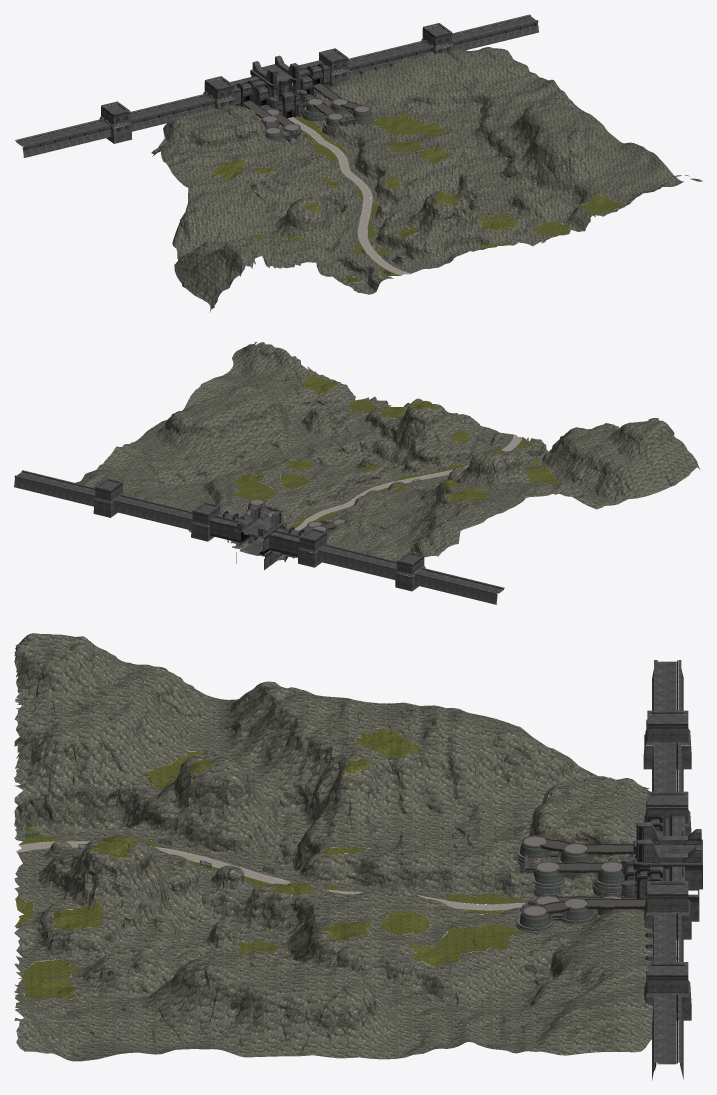
File: Tangram.glb
The picture shows the model from 3 angles, top to bottom: view 1: azimuth 30°, elevation 25°; view 2: azimuth 150°, elevation 25°; view 3: azimuth 270°, elevation 25°; orthographic projection. The views are drawn at different scales.
Visible parts, largest first — view 1: Group59166, t0_s21_s21_polySurface195, t0_yz5_polySurface66045, s21_polySurface196, g1_g1_road, polySurface121544, t0_s21_s21_bridge; view 2: Group59166, t0_s21_s21_polySurface195, s21_polySurface196, polySurface121544, g1_g1_road, t0_yz5_polySurface66045; view 3: Group59166, t0_s21_s21_polySurface195, t0_yz5_polySurface66045, polySurface121544, t0_s21_s21_bridge, g1_g1_road, s21_polySurface196.
Boxes of the visible parts, x1,y1,x2,y2 form: Group59166: [151, 47, 702, 312]; t0_s21_s21_polySurface195: [15, 14, 538, 157]; t0_yz5_polySurface66045: [261, 96, 373, 143]; s21_polySurface196: [230, 60, 330, 107]; g1_g1_road: [288, 117, 410, 275]; polySurface121544: [250, 55, 307, 117]; t0_s21_s21_bridge: [243, 83, 359, 127]; Group59166: [75, 342, 700, 562]; t0_s21_s21_polySurface195: [14, 470, 504, 604]; s21_polySurface196: [209, 510, 304, 558]; polySurface121544: [235, 505, 286, 569]; g1_g1_road: [259, 434, 522, 556]; t0_yz5_polySurface66045: [245, 498, 346, 557]; Group59166: [14, 633, 678, 1061]; t0_s21_s21_polySurface195: [519, 660, 691, 1080]; t0_yz5_polySurface66045: [516, 835, 628, 933]; polySurface121544: [621, 822, 702, 921]; t0_s21_s21_bridge: [541, 839, 646, 913]; g1_g1_road: [16, 841, 524, 910]; s21_polySurface196: [634, 815, 684, 915].
Bounding box in the file's own units: 1398 × 176 × 987.
Materials: 64 (64 with a texture image).
